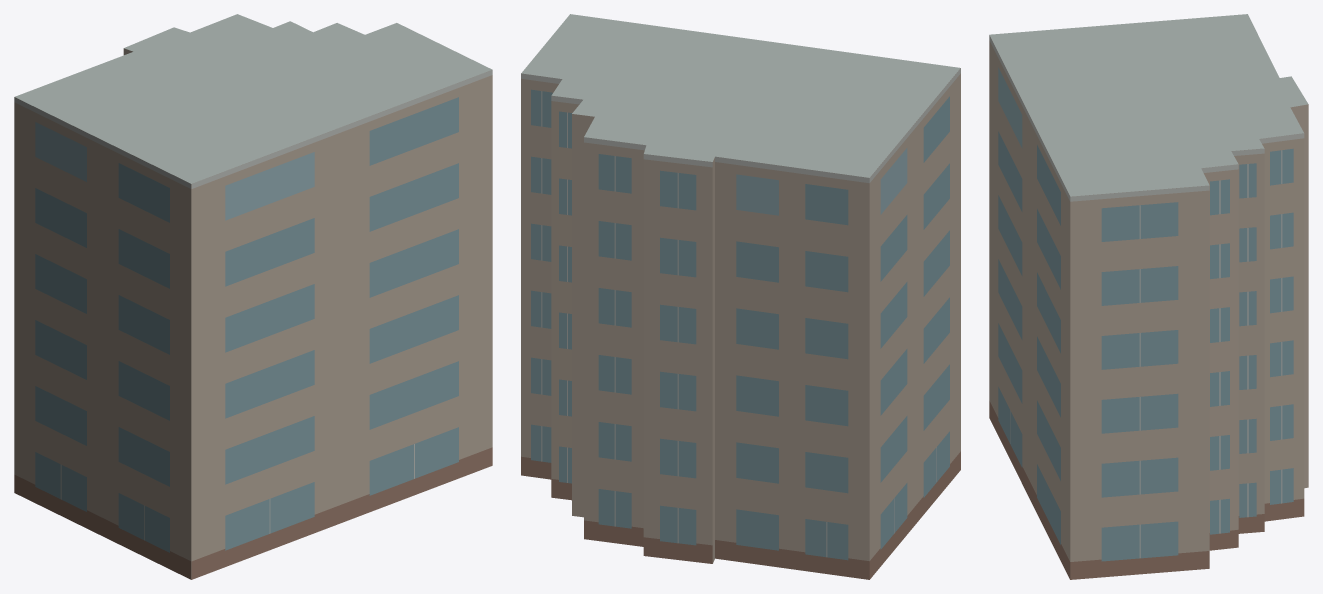
The model's file is survey-upis-32876750.glb.
3 renders of one model, left to right at view 1: azimuth 30°, elevation 25°; view 2: azimuth 150°, elevation 25°; view 3: azimuth 270°, elevation 25°, orthographic. The views are drawn at different scales.
Parts seen in each view (by area): view 1: survey-upis-32876750.tmp; view 2: survey-upis-32876750.tmp; view 3: survey-upis-32876750.tmp.
Part boxes in pixels (x1,y1,x2,y2): survey-upis-32876750.tmp: [14, 14, 492, 579]; survey-upis-32876750.tmp: [521, 14, 960, 579]; survey-upis-32876750.tmp: [989, 14, 1308, 579].
Bounding box in the file's own units: 18.71 × 18.3 × 13.83.
